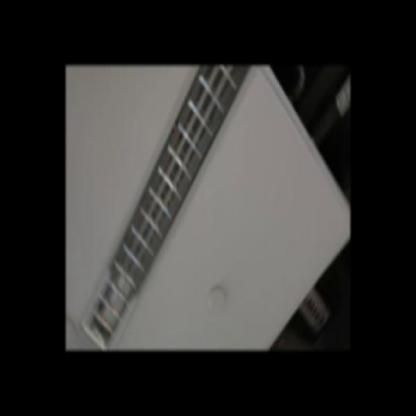light_off: (77, 69, 268, 350)
